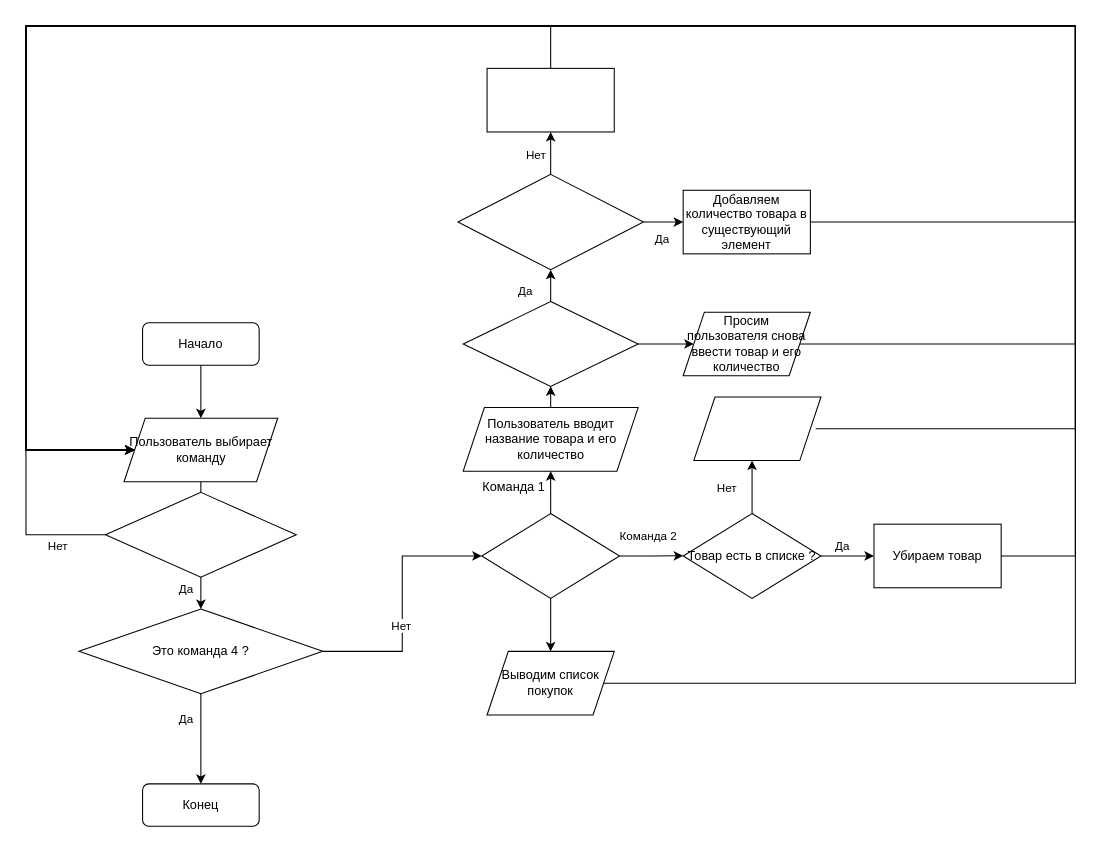
This 1102x845 diagram has some shape labels left out. Each missing label, with the centre of its shape:
"Говорим пользователю об ошибке" goes at (757,428).
"Данные введеные пользователем корректные ?" goes at (550,343).
"Добавляем товар в список" goes at (550,99).
"Пользователь ввел правильную команду ?" goes at (200,534).
"Этот товар есть в списке ?" goes at (550,221).
